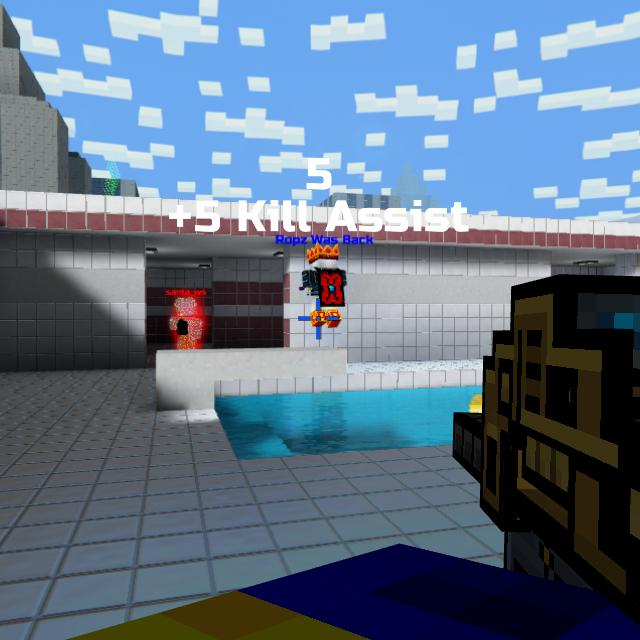Enemy: (173, 299, 201, 349)
